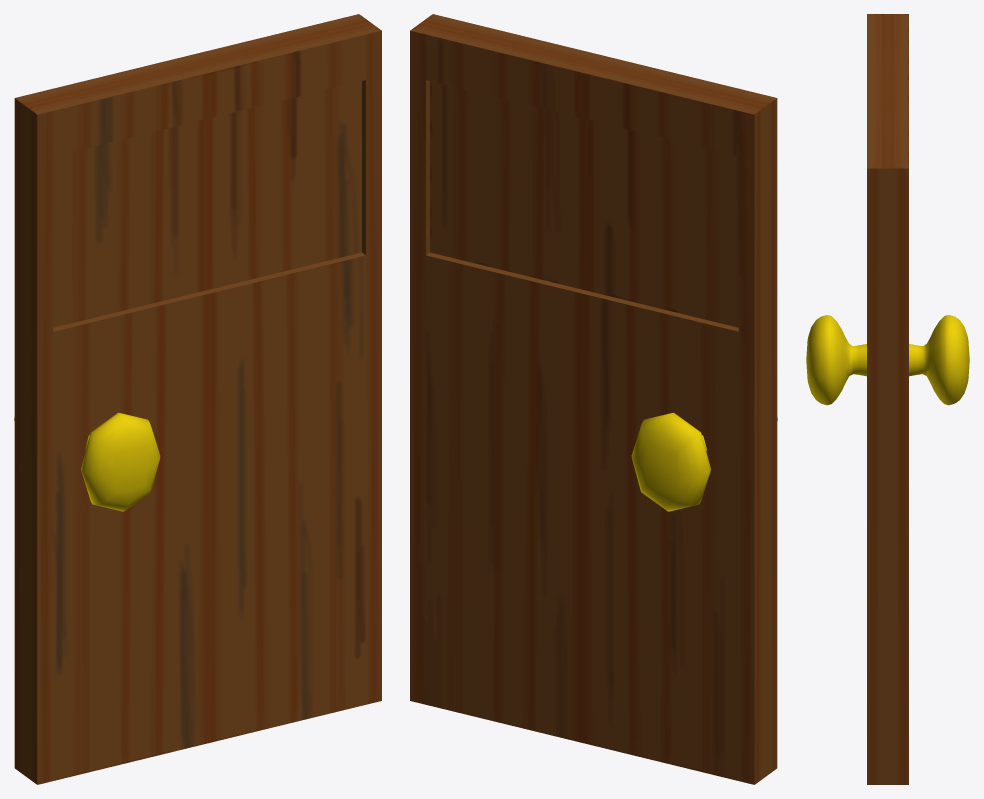
The model's file is Door.glb.
3 views of the same model, side by side, from view 1: azimuth 30°, elevation 25°; view 2: azimuth 150°, elevation 25°; view 3: azimuth 270°, elevation 25° (orthographic). The views are drawn at different scales.
Visible parts, largest first — view 1: Cube, Cube.001; view 2: Cube, Cube.001; view 3: Cube, Cube.001.
Boxes of the visible parts, left/top/right/bottom form: Cube: left=14, top=14, right=381, bottom=784; Cube.001: left=14, top=412, right=160, bottom=511; Cube: left=410, top=14, right=777, bottom=784; Cube.001: left=631, top=412, right=777, bottom=511; Cube: left=867, top=14, right=908, bottom=784; Cube.001: left=806, top=315, right=969, bottom=405.
Size of the model in its own units: 0.7524 by 1.4 by 0.3362.
Materials: 2 (1 with a texture image).
